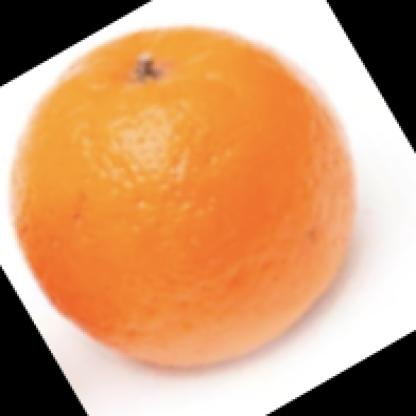fresh: (14, 27, 355, 366)
